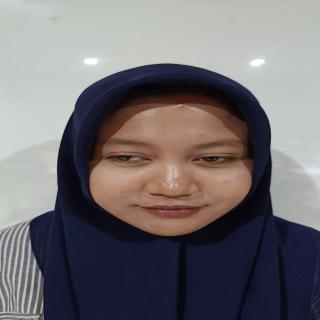Takut: (79, 93, 266, 244)
